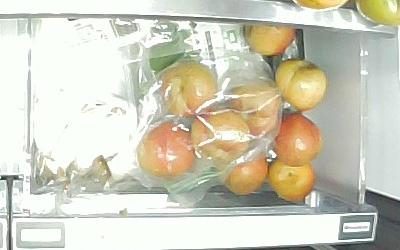prune: (269, 113, 322, 167), (277, 58, 327, 113), (215, 153, 269, 195), (269, 160, 315, 201), (244, 25, 297, 57)
prune_vinyl: (154, 59, 217, 116), (136, 121, 195, 177), (192, 111, 251, 165), (225, 77, 279, 134)
